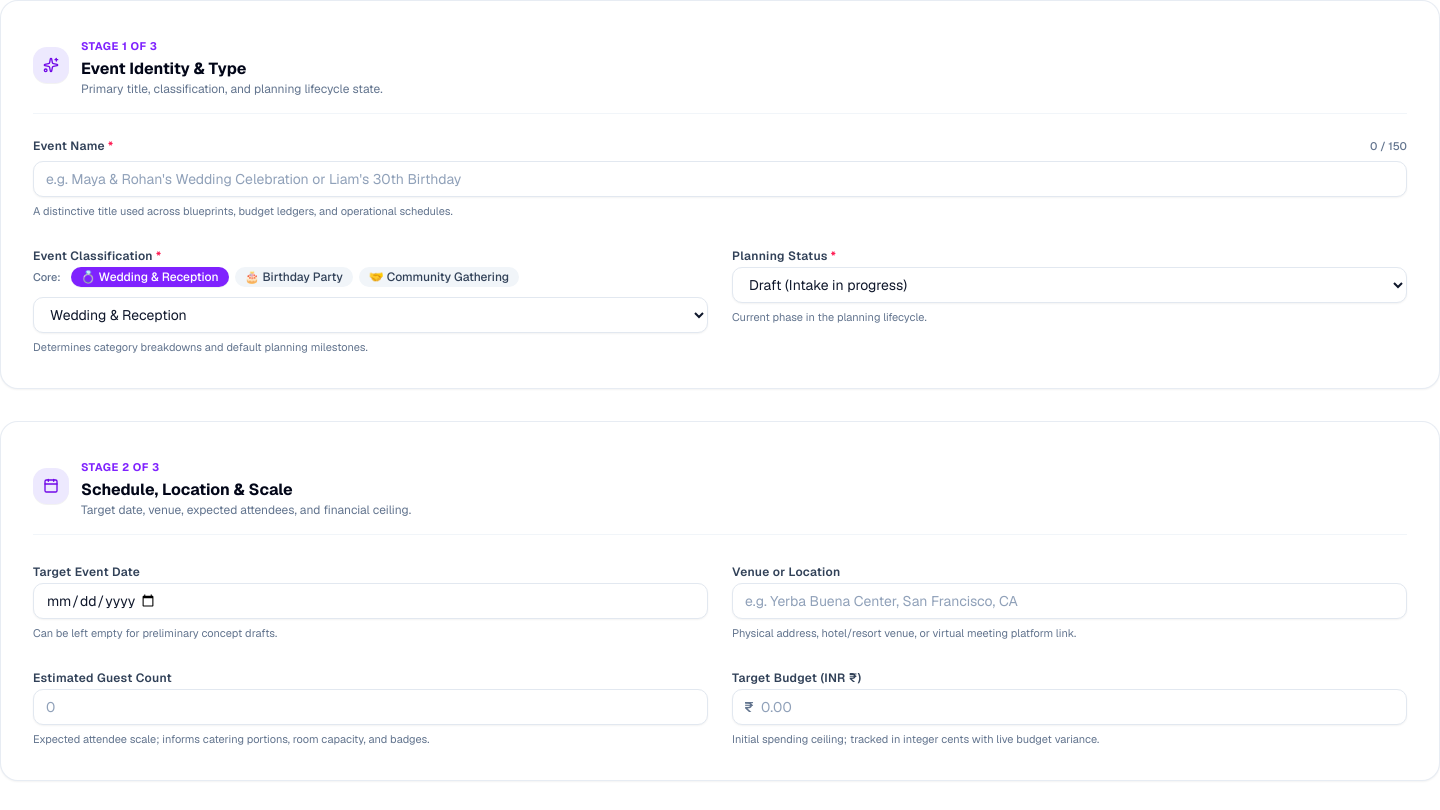
it: EventForm Component › Interactive User Input & State Transitions › strips leading zeros on numeric guest count and budget inputs
Type "0250" into the number field labelled "Estimated Guest Count" at (370, 707), box [33,689,708,725]
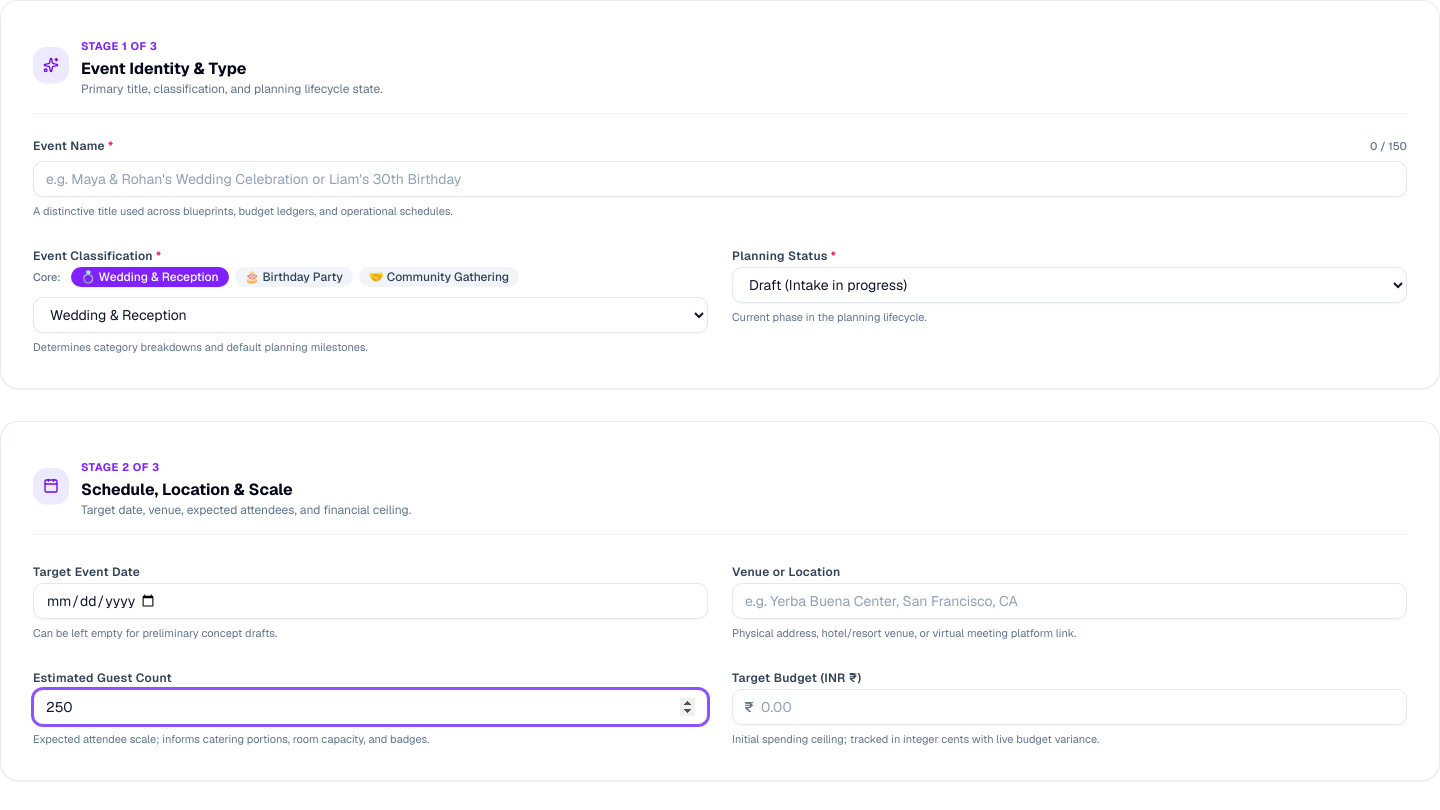
Expected: the number field labelled "Estimated Guest Count" holds "250", [33,689,708,725]
Type "05000" into the number field labelled "Target Budget (INR ₹)" at (1070, 707), box [732,689,1407,725]
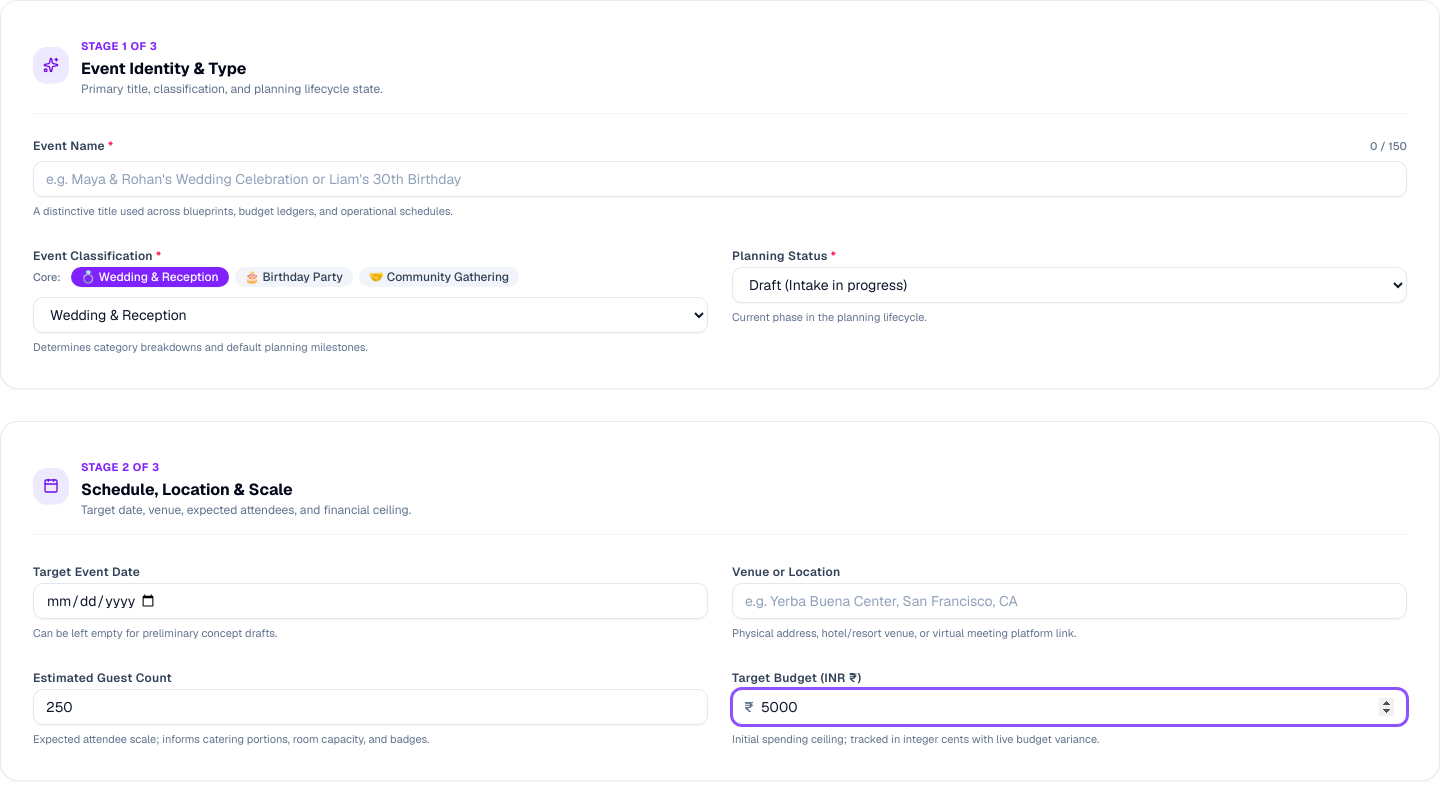
Expected: the number field labelled "Target Budget (INR ₹)" holds "5000", [732,689,1407,725]
